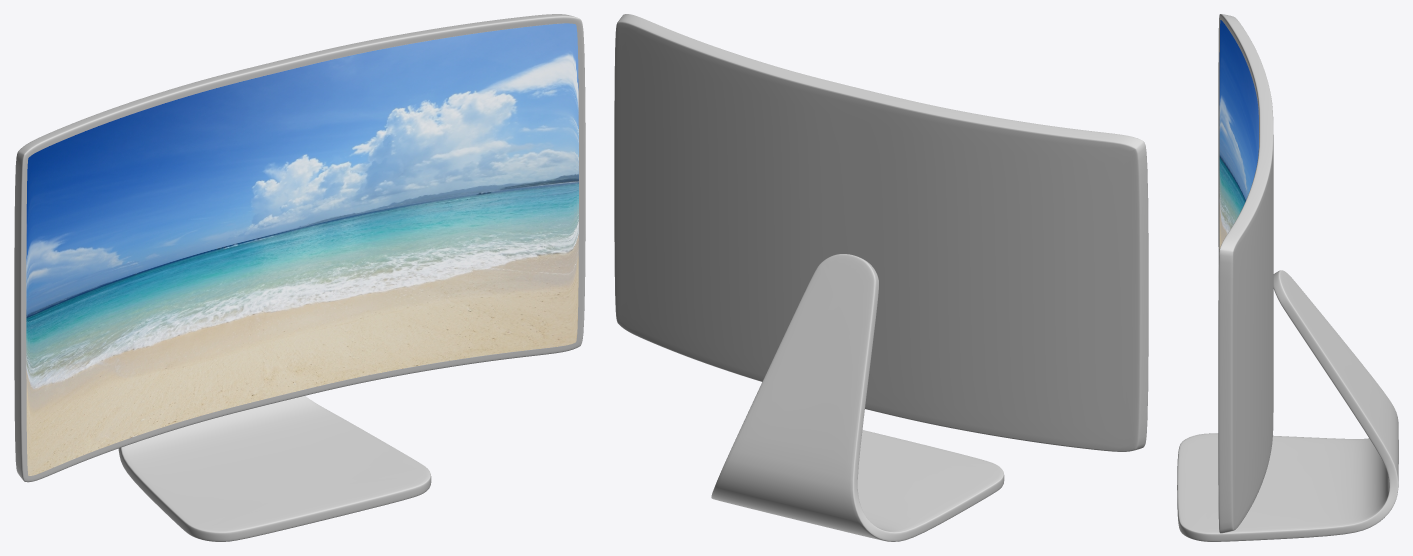
The model's file is curved_display.gltf.
The picture shows the model from 3 angles, left to right: view 1: azimuth 30°, elevation 25°; view 2: azimuth 150°, elevation 25°; view 3: azimuth 270°, elevation 25°; orthographic projection. The views are drawn at different scales.
Parts seen in each view (by area): view 1: Plane.001, Plane; view 2: Plane.001, Plane; view 3: Plane.001, Plane.
Boxes of the visible parts, x1=… form: Plane.001: x1=14, y1=14, x2=585, y2=482; Plane: x1=118, y1=396, x2=431, y2=541; Plane.001: x1=614, y1=14, x2=1148, y2=451; Plane: x1=711, y1=254, x2=1004, y2=541; Plane.001: x1=1218, y1=14, x2=1273, y2=533; Plane: x1=1177, y1=270, x2=1398, y2=541.
Bounding box in the file's own units: 3.56 × 2.53 × 1.4.
Materials: 2 (1 with a texture image).
